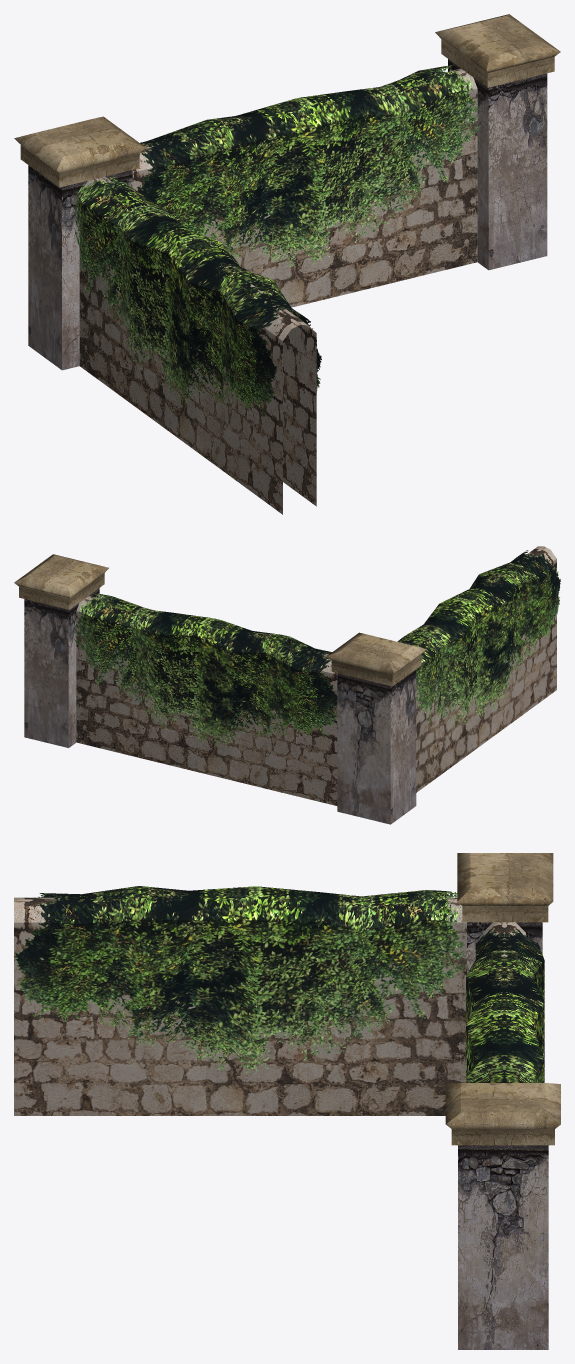
Rendered from Wall_Right_01.fbx.
The picture shows the model from 3 angles, top to bottom: view 1: azimuth 30°, elevation 25°; view 2: azimuth 150°, elevation 25°; view 3: azimuth 270°, elevation 25°; orthographic projection. The views are drawn at different scales.
Parts seen in each view (by area): view 1: wall_right_01; view 2: wall_right_01; view 3: wall_right_01.
Boxes of the visible parts, <box> form: wall_right_01: <box>14,14,560,514</box>; wall_right_01: <box>14,546,560,824</box>; wall_right_01: <box>14,853,560,1349</box>.
Size of the model in its own units: 8.5 by 3.45 by 7.24.
